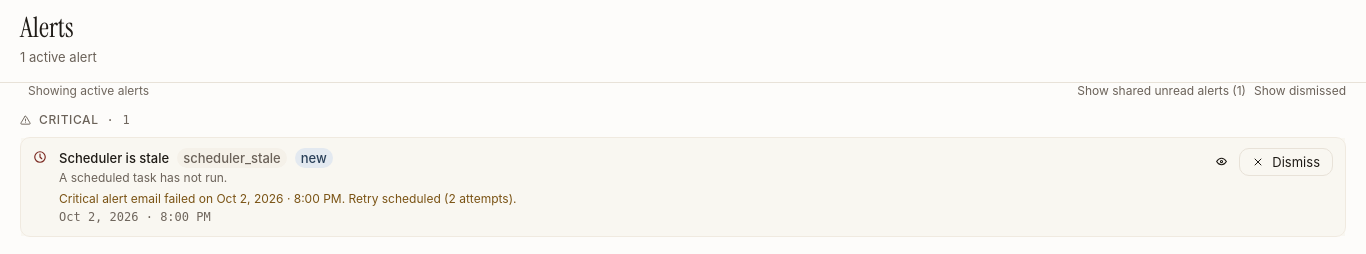
Test: critical alert email state › opens the shared unread filter using the unread count definition
Click the button "Show shared unread alerts (1)" at (1162, 91), box [1077, 83, 1246, 100]
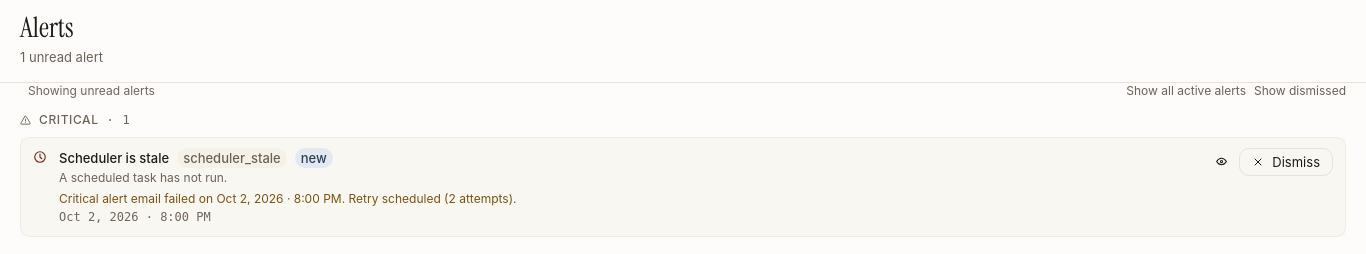
Check: the text "Showing unread alerts" is shown, box [28, 83, 155, 100]
